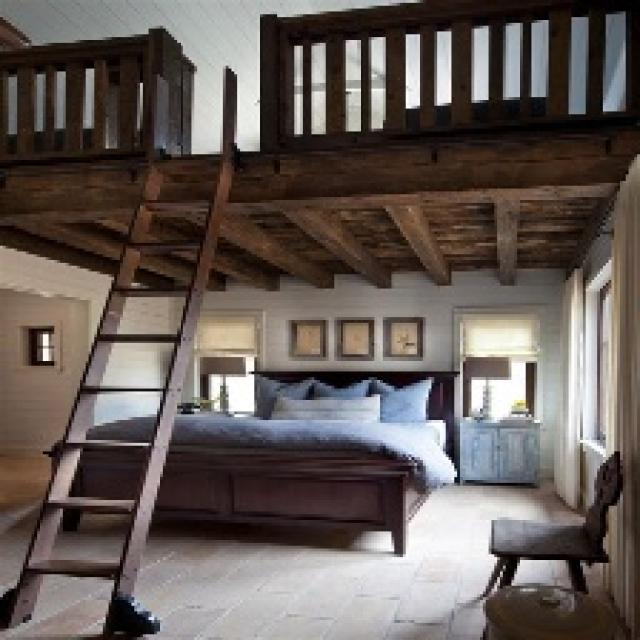Bed: (60, 366, 460, 554)
